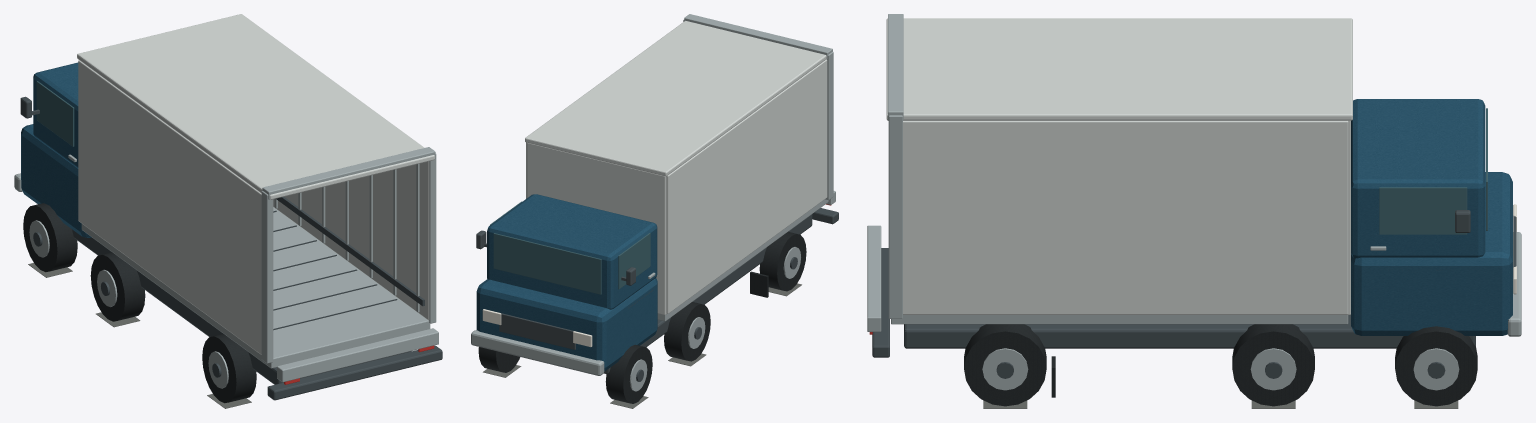
File: truck.glb
3 views of the same model, side by side, from view 1: azimuth 30°, elevation 25°; view 2: azimuth 150°, elevation 25°; view 3: azimuth 270°, elevation 25° (orthographic). The views are drawn at different scales.
Visible parts, largest first — view 1: Warm Galvanized Sheet, Brushed Steel, Charcoal Metal, Rubber PBR, Blue Painted Steel PBR, Opaque Tinted Cab Glass, Opaque Contact Detail; view 2: Warm Galvanized Sheet, Blue Painted Steel PBR, Brushed Steel, Rubber PBR, Opaque Tinted Cab Glass, Charcoal Metal, Opaque Contact Detail, Label Stock; view 3: Warm Galvanized Sheet, Blue Painted Steel PBR, Brushed Steel, Rubber PBR, Charcoal Metal, Opaque Tinted Cab Glass, Opaque Contact Detail.
Part boxes in pixels (x1,y1,x2,y2): Warm Galvanized Sheet: (77,14,434,354); Brushed Steel: (14,147,438,388); Charcoal Metal: (20,96,442,400); Rubber PBR: (23,203,256,403); Blue Painted Steel PBR: (21,62,91,237); Opaque Tinted Cab Glass: (36,81,74,146); Opaque Contact Detail: (28,263,251,408); Warm Galvanized Sheet: (525,20,827,314); Blue Painted Steel PBR: (476,194,657,371); Brushed Steel: (471,14,835,391); Rubber PBR: (478,231,806,403); Opaque Tinted Cab Glass: (490,201,650,294); Charcoal Metal: (476,208,838,381); Opaque Contact Detail: (483,283,801,408); Label Stock: (482,309,592,347); Warm Galvanized Sheet: (886,18,1352,314); Blue Painted Steel PBR: (1351,99,1512,335); Brushed Steel: (867,14,1521,390); Rubber PBR: (964,324,1477,406); Charcoal Metal: (872,210,1516,378); Opaque Tinted Cab Glass: (1379,108,1487,234); Opaque Contact Detail: (983,400,1458,408).
Bounding box in the file's own units: 2.86 × 3.7 × 7.44.
9 materials, 2 textured.
